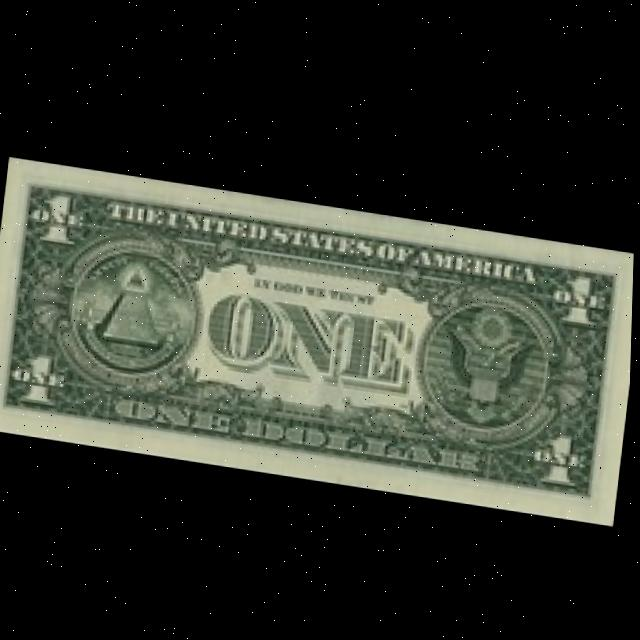banknote: (0, 150, 637, 518)
